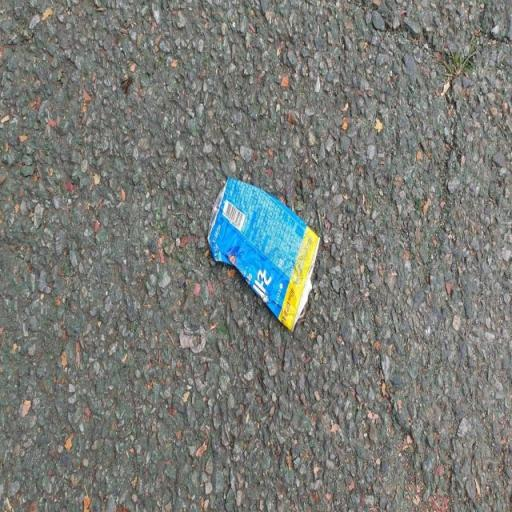metal: (161, 108, 384, 416)
